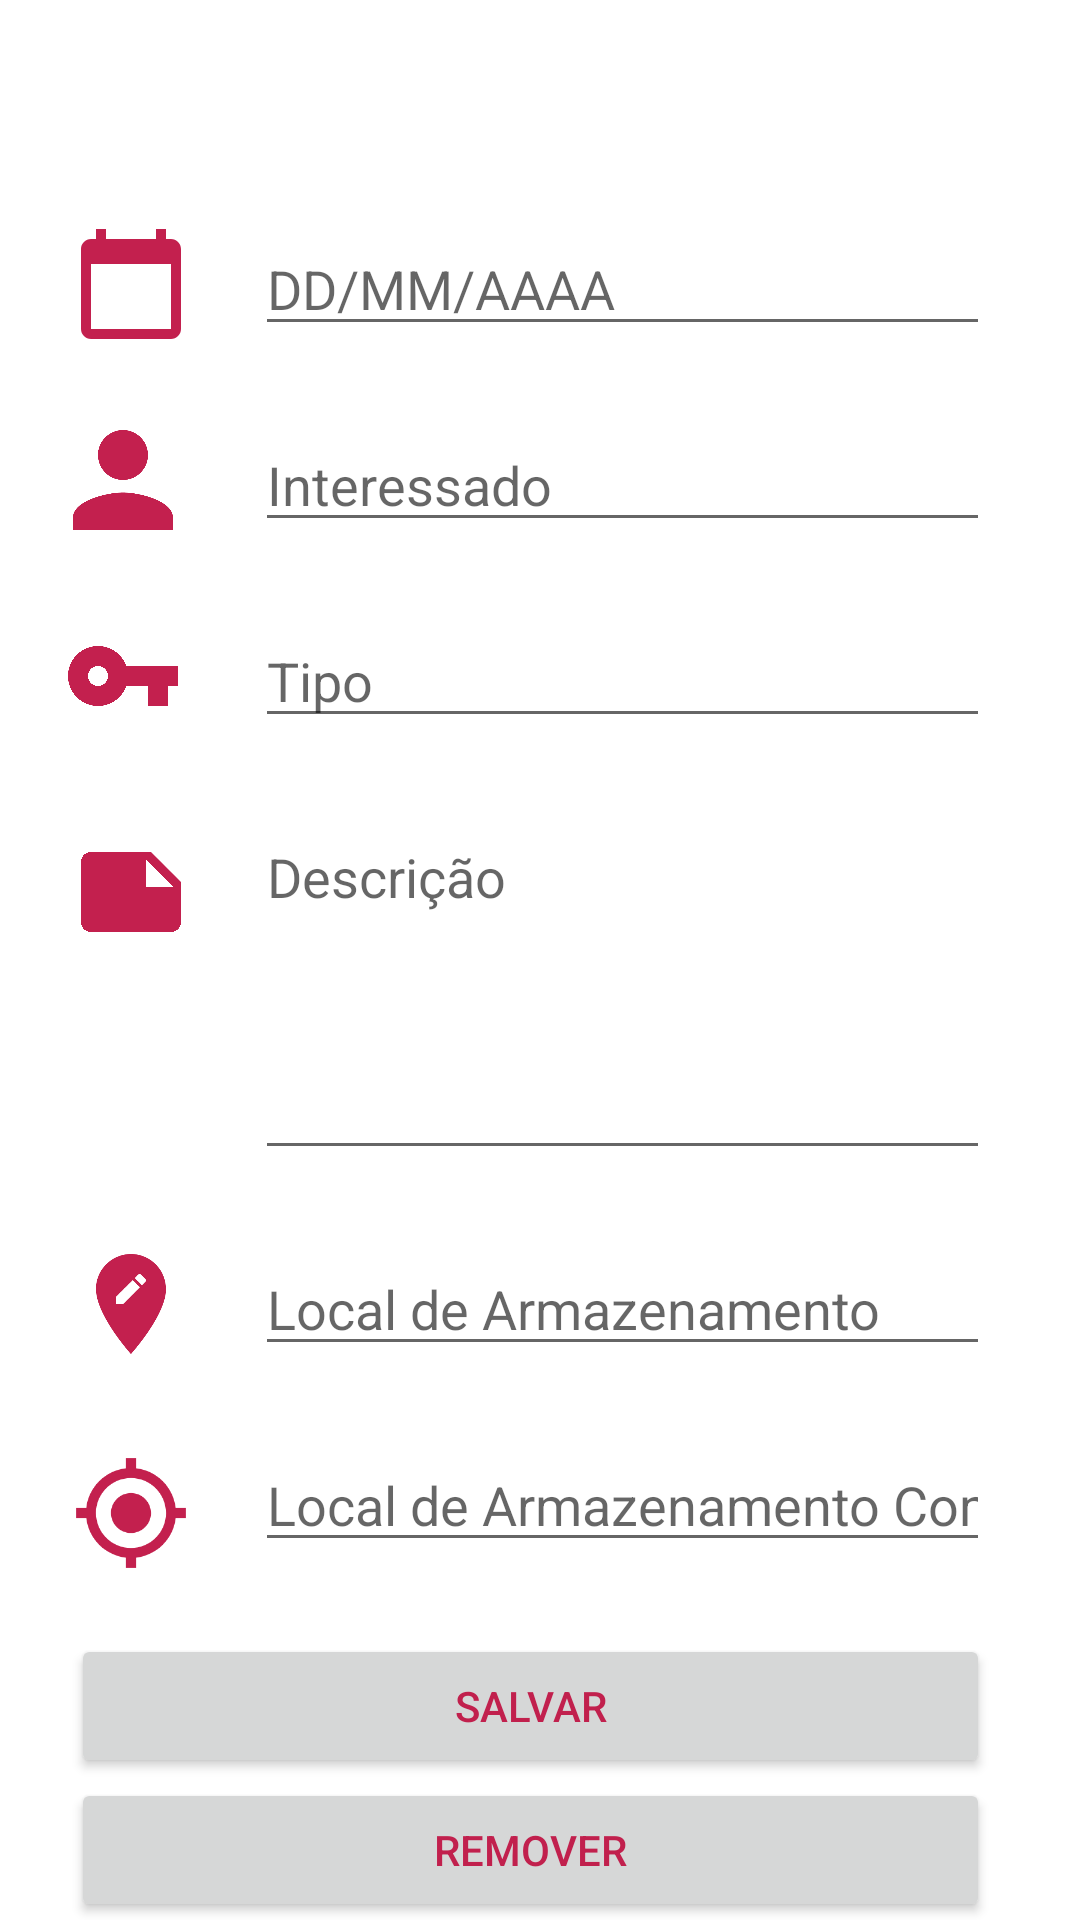

Screen size 1080*1920. Icon name, then its box in pixels as (x1, y1, x2, y2):
calendar today: (81, 229, 181, 339)
edit location: (96, 1254, 166, 1354)
location: (76, 1458, 186, 1568)
note: (81, 852, 181, 932)
person: (73, 430, 173, 530)
vpn key: (68, 646, 178, 706)
